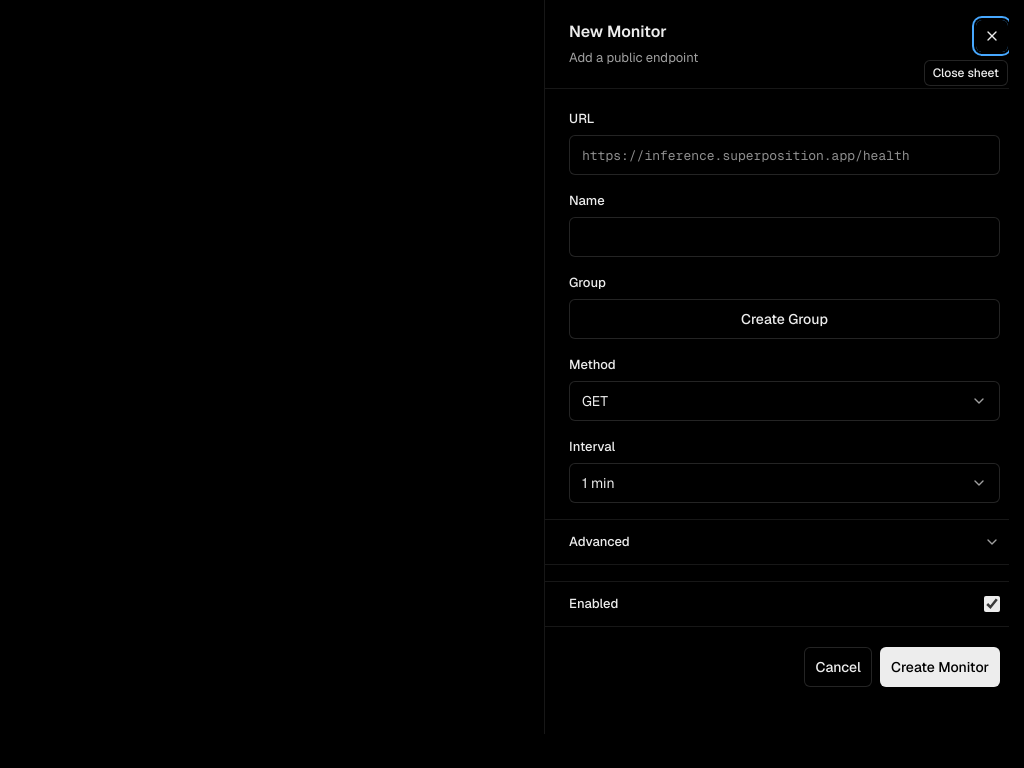
Scenario: MonitorSheet › sends the exact create body and waits for propagation
This screenshot has width=1024, height=768.
Step 1. Type "  https://api.example.com/health  " into the field labelled "URL" → (784, 155), box [569,135,1000,175]
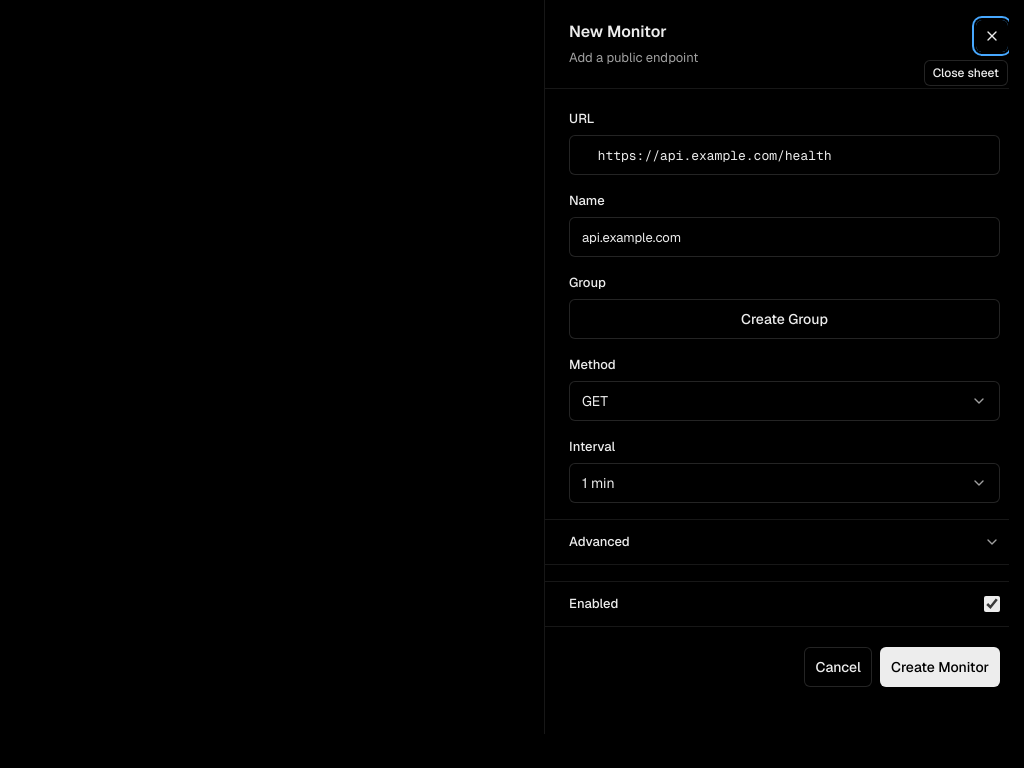
Step 2. Click the button "Create Monitor" → (940, 667), box [880,647,1000,687]
Wait 10000 ms
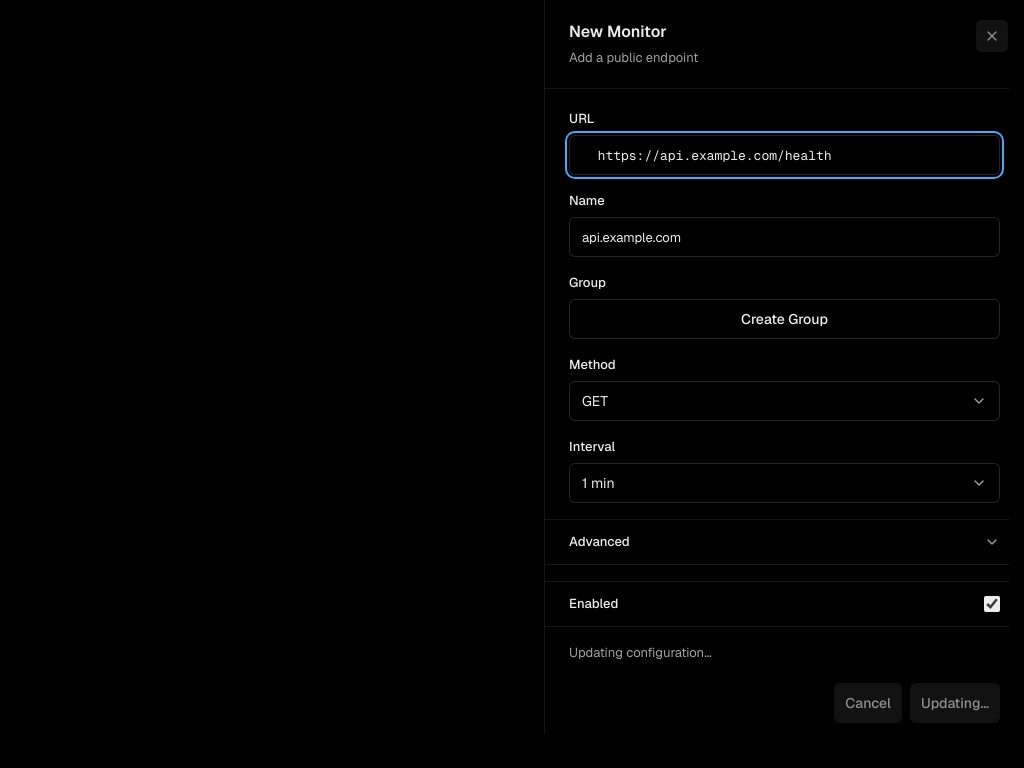
Now the text "Updating configuration…" is shown, box [569,644,712,661]
